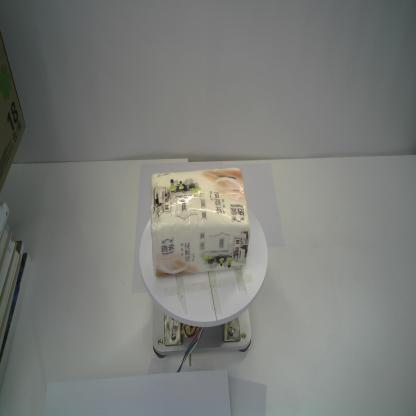Tissue: (146, 165, 252, 277)
